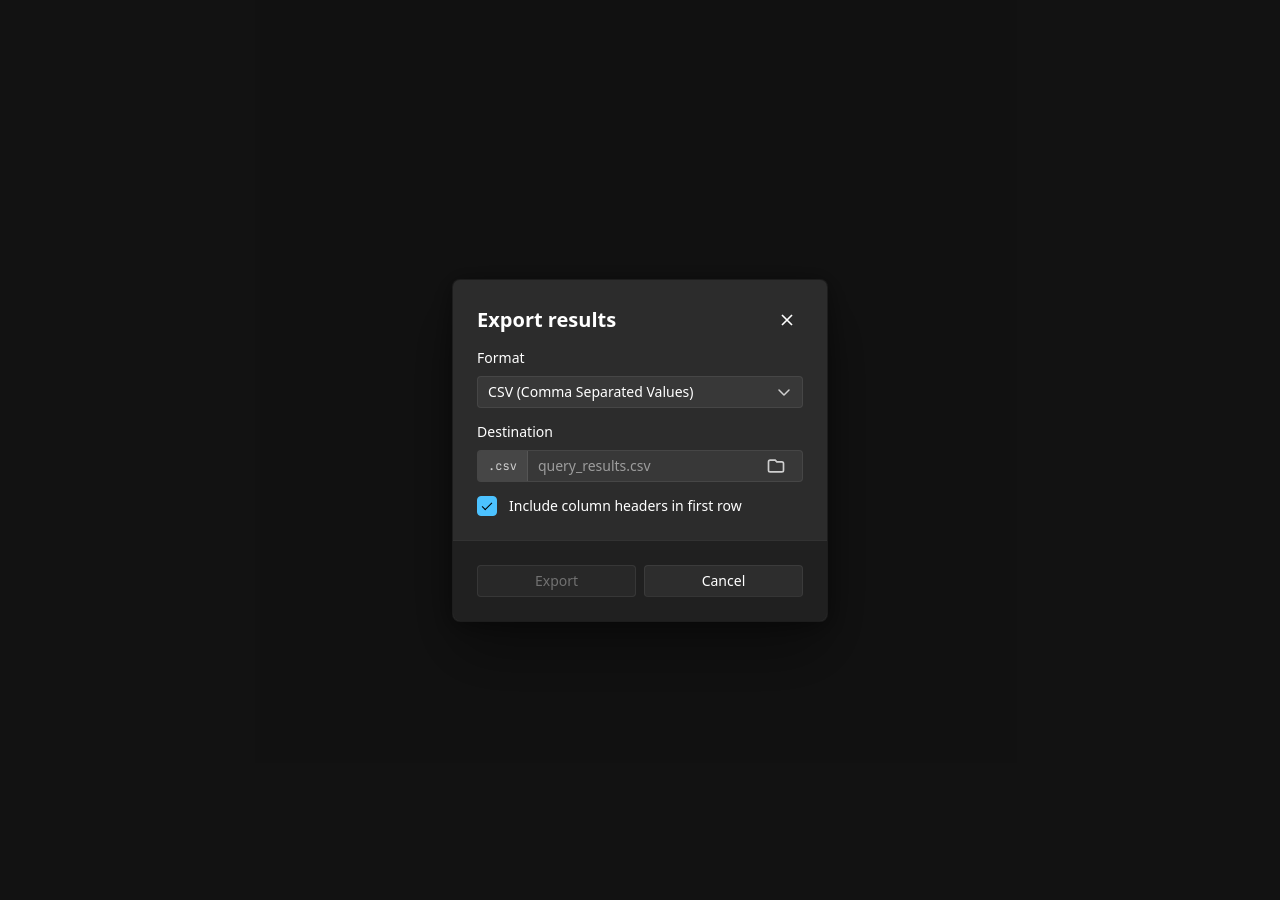
Scenario: ExportDialog › shows error display when export fails
Type "/tmp/export.csv" into the field with test id "export-file-path-input". click: (639, 466)
box: [528, 450, 750, 480]
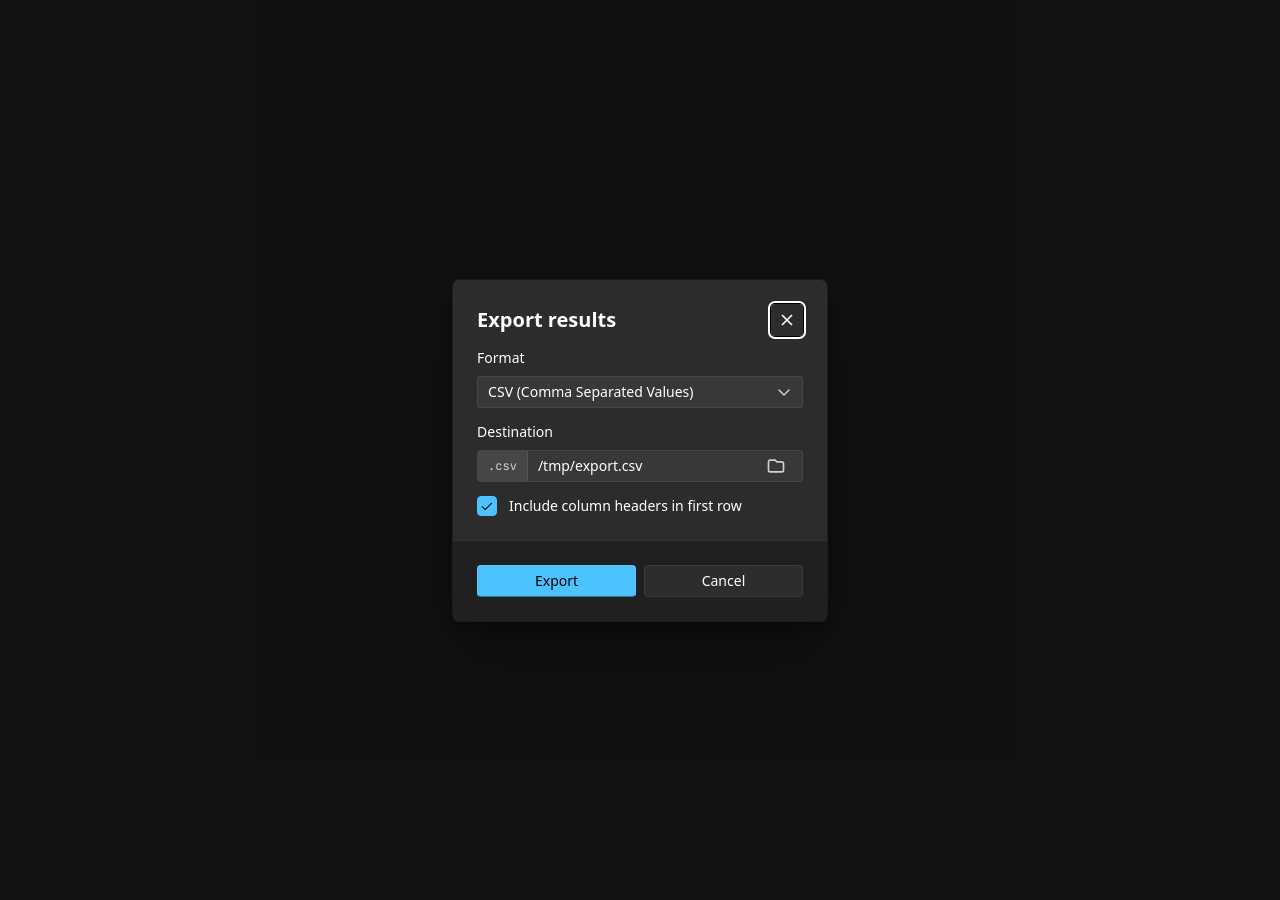
Click the button with test id "export-submit-button". click: (557, 580)
box: [477, 564, 636, 596]
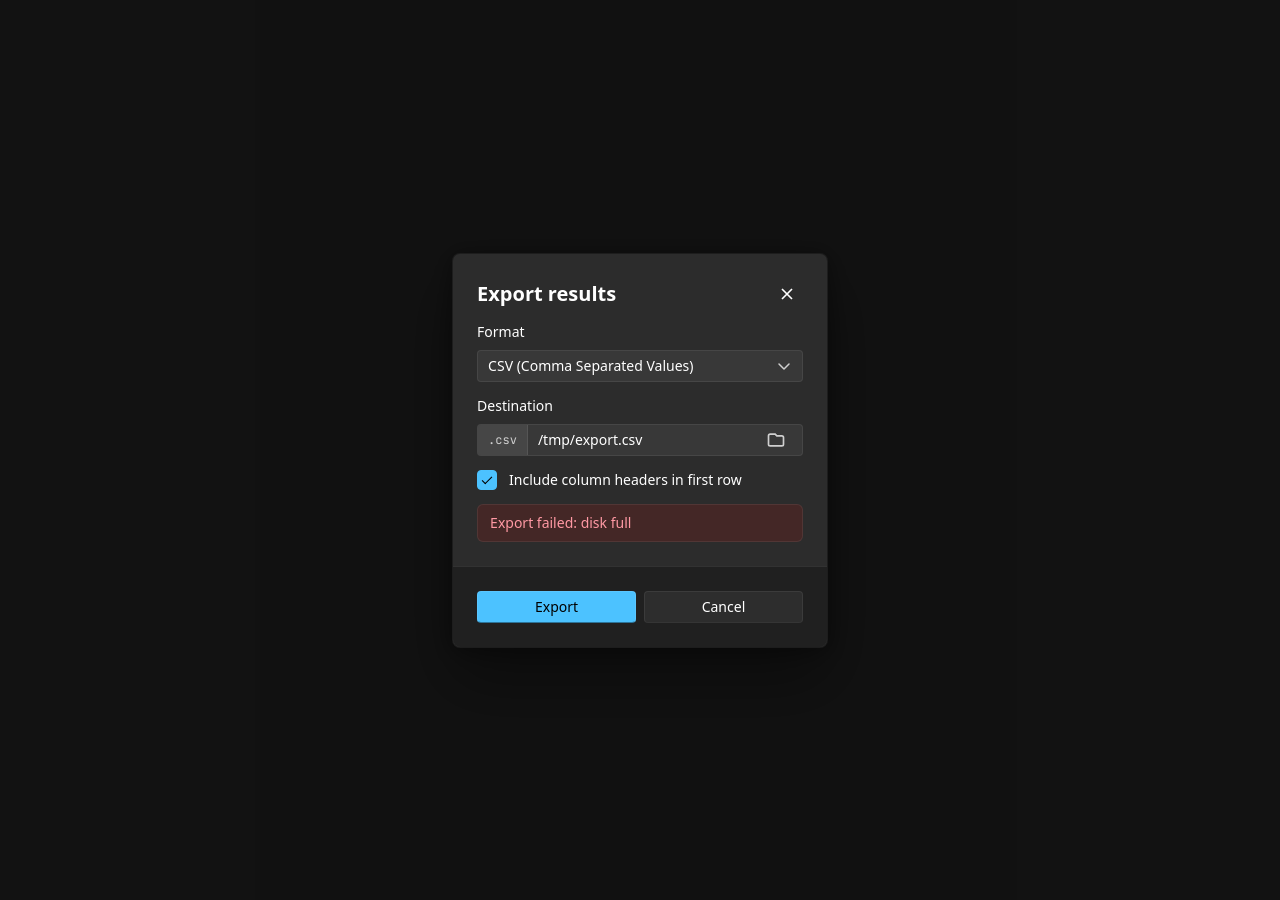
Check: the text with test id "export-error" reads "Export failed: disk full", box [490, 512, 631, 532]
